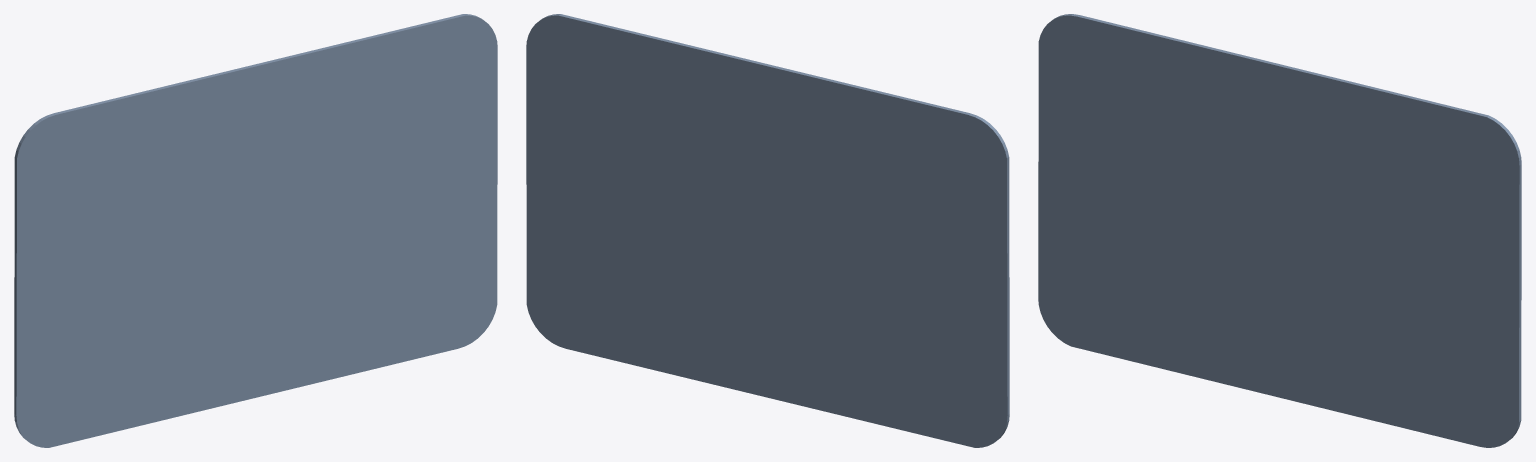
File: RUG_BLUE_PATTERN_001.glb
3 renders of one model, left to right at view 1: azimuth 30°, elevation 25°; view 2: azimuth 150°, elevation 25°; view 3: azimuth 330°, elevation 25°, orthographic.
Parts seen in each view (by area): view 1: rug_000; view 2: rug_000; view 3: rug_000.
Part boxes in pixels (x1,y1,x2,y2): rug_000: (14,14,497,447); rug_000: (526,14,1009,447); rug_000: (1038,14,1521,447).
Bounding box in the file's own units: 2.2 × 1.45 × 0.018.
